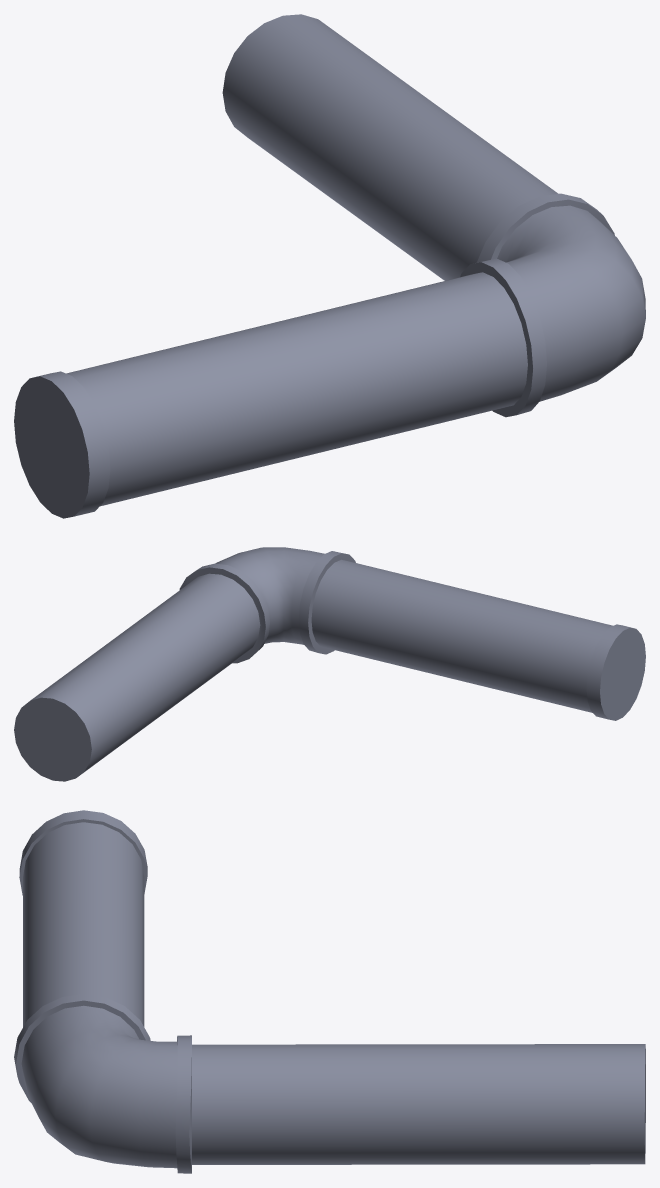
Rendered from BentPipe.fbx.
3 views of the same model, one above another, from view 1: azimuth 30°, elevation 25°; view 2: azimuth 150°, elevation 25°; view 3: azimuth 270°, elevation 25° (orthographic). The views are drawn at different scales.
Visible parts, largest first — view 1: BentPipe; view 2: BentPipe; view 3: BentPipe.
Part boxes in pixels (box(x1,y1,x2,y2)): BentPipe: box(14, 14, 645, 518); BentPipe: box(14, 547, 645, 781); BentPipe: box(14, 810, 645, 1173).
Bounding box in the file's own units: 13.49 × 2.99 × 13.54.
